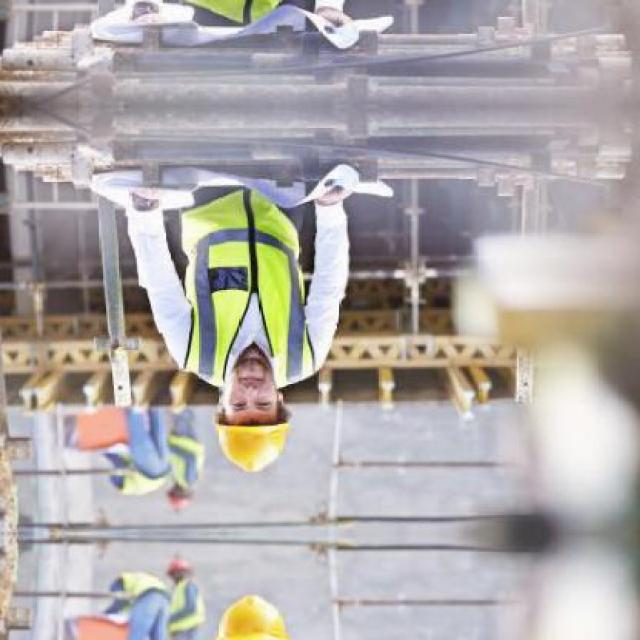safetyhelmet: (212, 369, 291, 469)
